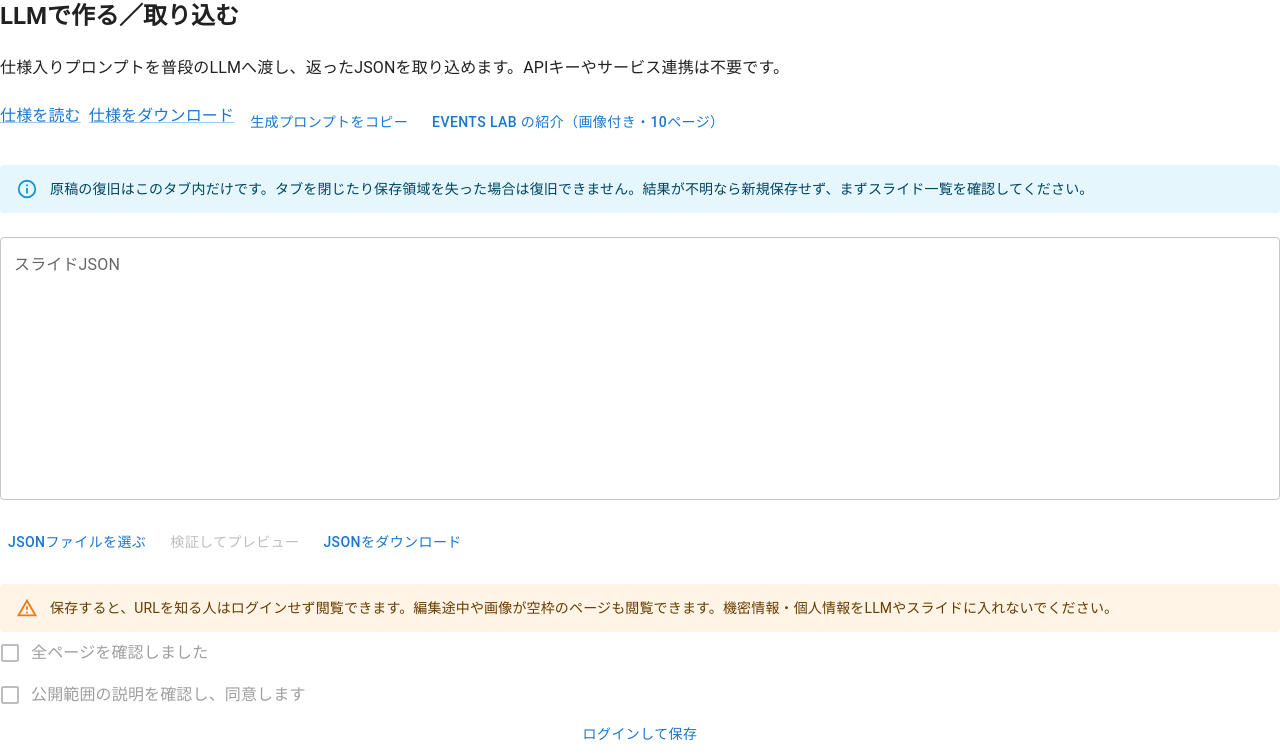
Scenario: DeckImportPage real user entry › offers only the new spec, prompt and ten-page sample in ja
Click the button "生成プロンプトをコピー" at [329, 122], box x1=242 y1=104 x2=416 y2=140
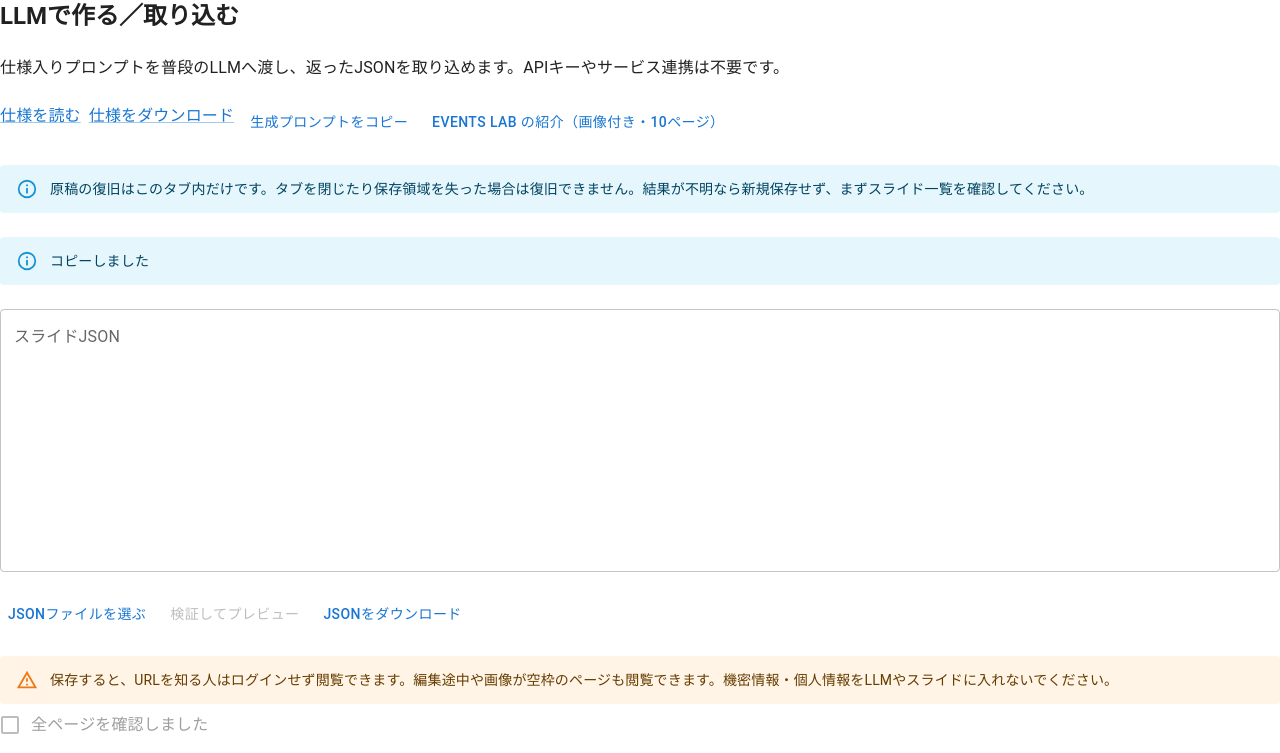
Click the button "events lab の紹介（画像付き・10ページ）" at [578, 122], box x1=424 y1=104 x2=732 y2=140
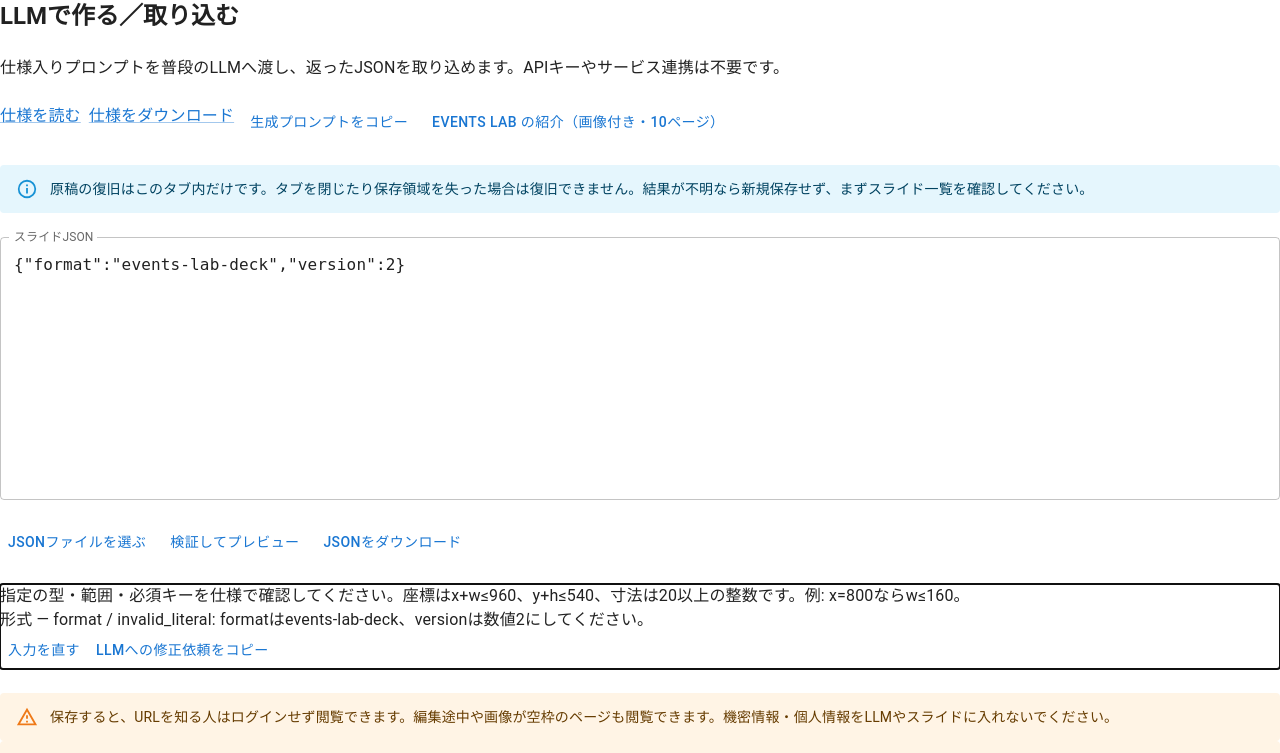
Expected: the text box labelled "スライドJSON" holds "{\"format\":\"events-lab-deck\",\"version\":2}", x1=14 y1=253 x2=1266 y2=483
